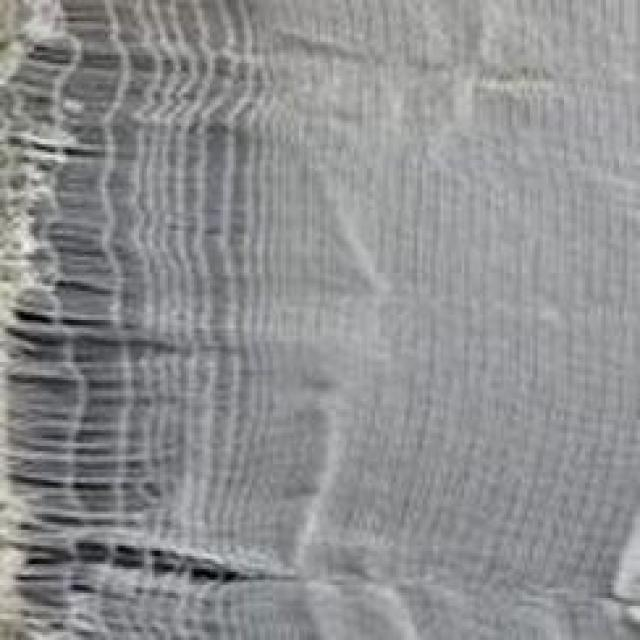Thread_other: (1, 10, 566, 640)
